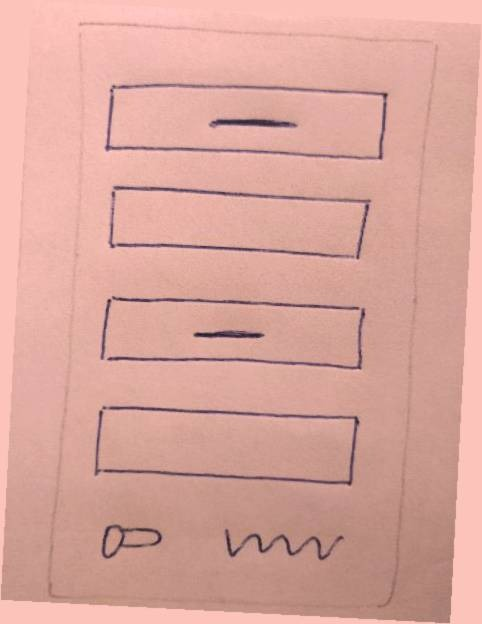button: (87, 281, 382, 387), (97, 69, 392, 175)
switch: (90, 517, 171, 568)
text: (210, 511, 354, 575)
text_input: (83, 397, 366, 494), (97, 178, 379, 274)
